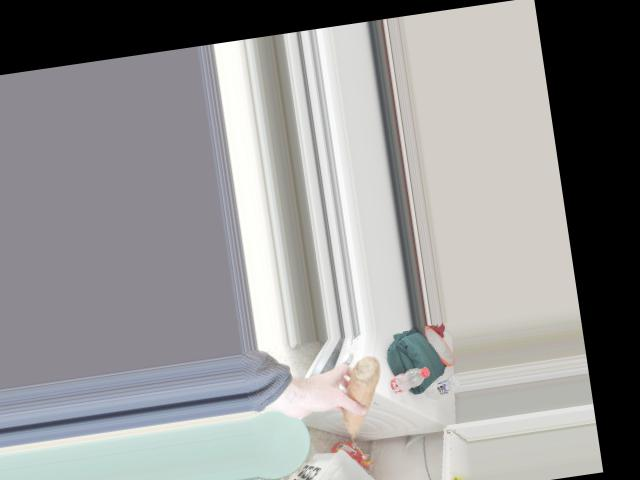sweet_potato: (329, 359, 391, 434)
